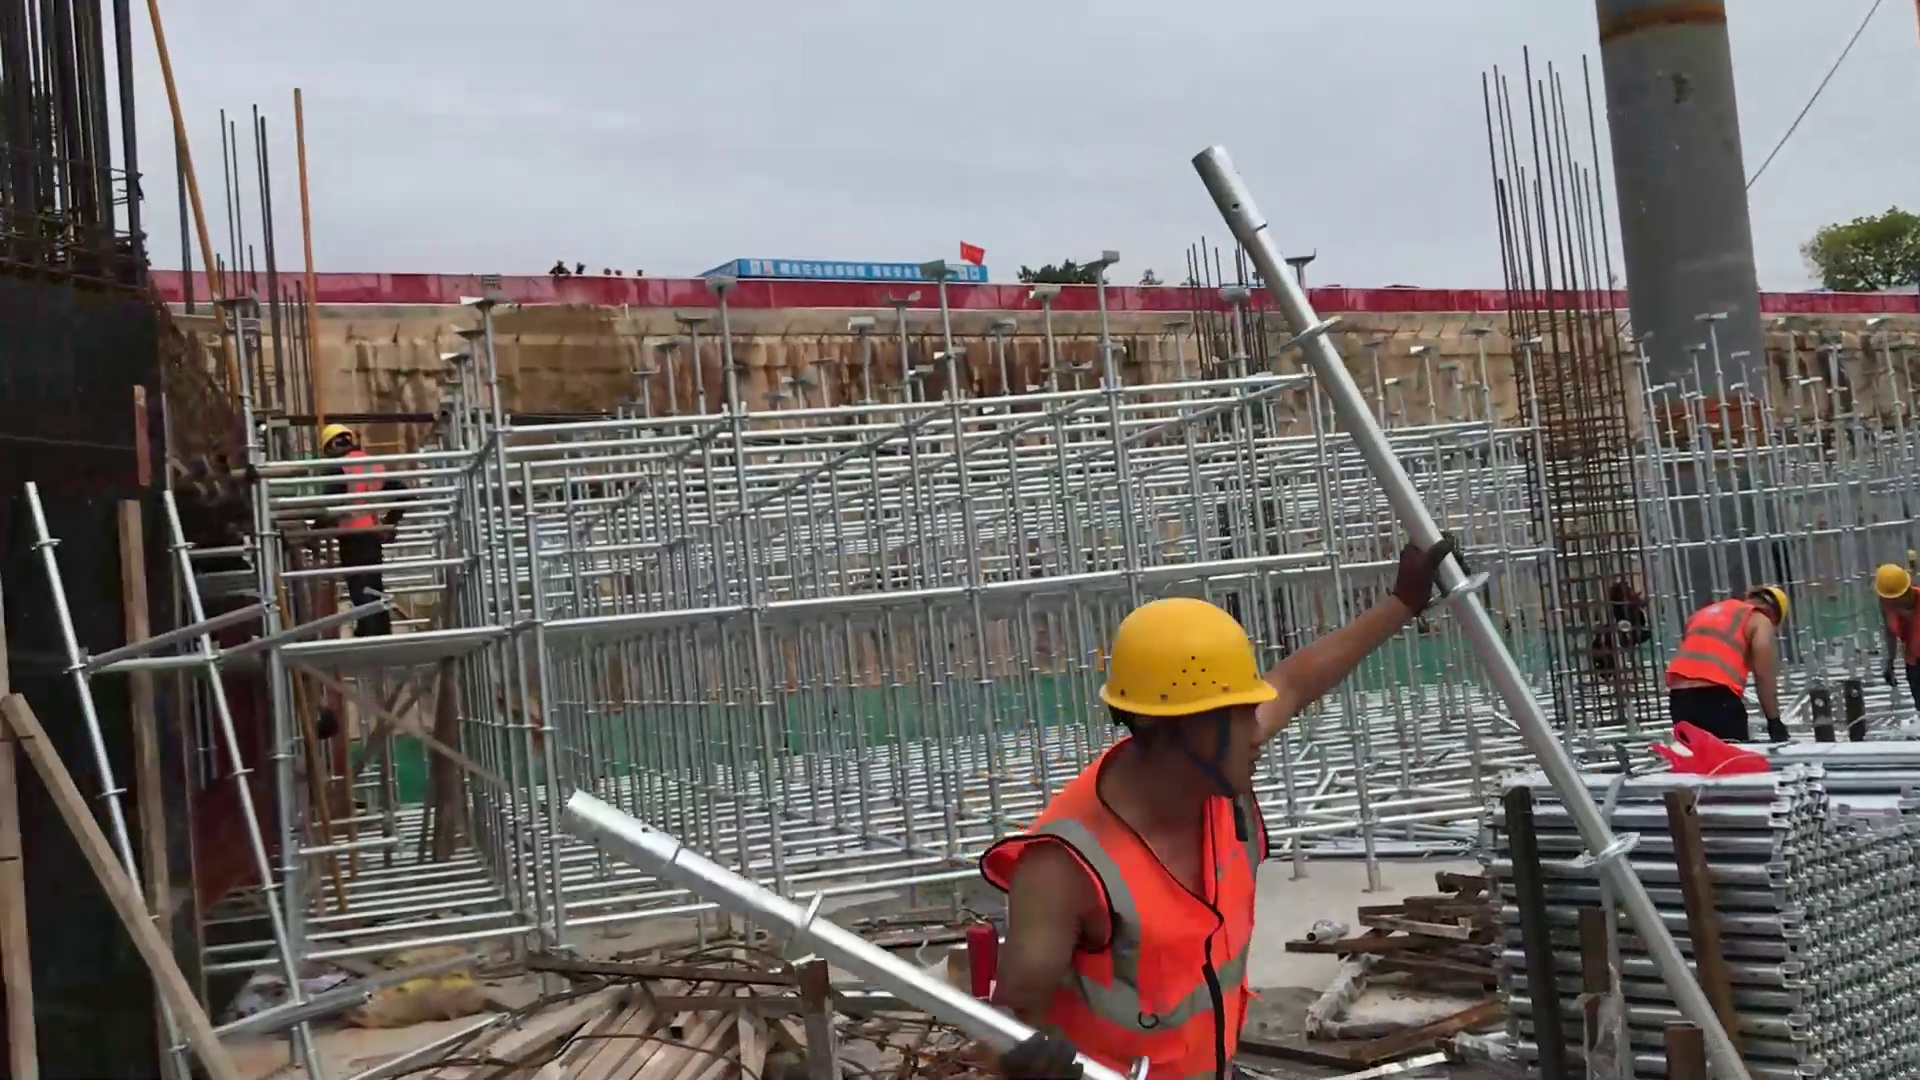fence: (141, 257, 1631, 319), (1757, 286, 1920, 321)
helmet: (1088, 586, 1288, 734), (312, 417, 360, 460), (1874, 562, 1910, 605), (1755, 584, 1791, 622)
person: (962, 522, 1464, 1080), (1655, 569, 1803, 769), (315, 415, 405, 634), (1869, 560, 1920, 707)
scaffold: (1431, 728, 1920, 1079)
vest: (976, 753, 1273, 1080), (1662, 596, 1769, 710), (319, 455, 400, 555), (1881, 607, 1920, 659)
